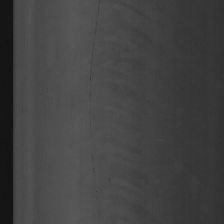inclusion: (86, 8, 104, 215)
